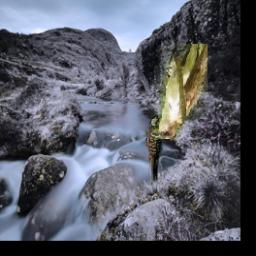Cuckoo: (151, 44, 208, 139)
Woodpecker: (143, 115, 165, 185)
